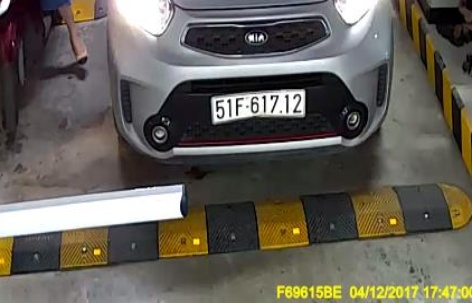plate: (207, 81, 311, 126)
